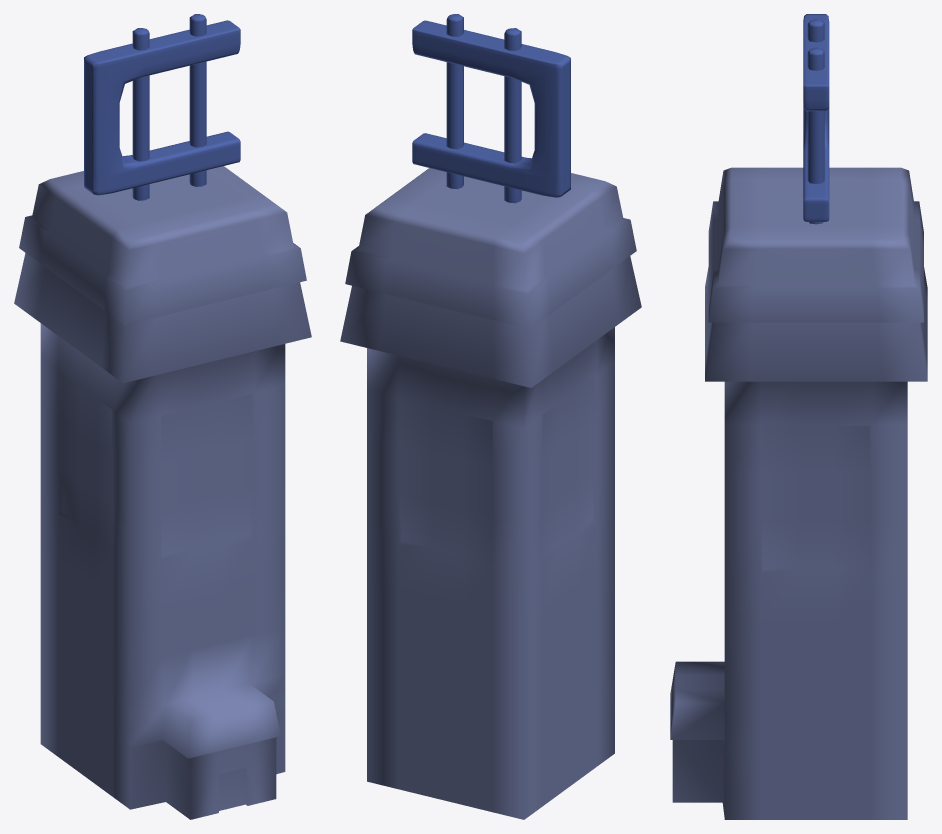
File: SM_Building_Business_A.fbx
3 views of the same model, side by side, from view 1: azimuth 30°, elevation 25°; view 2: azimuth 150°, elevation 25°; view 3: azimuth 270°, elevation 25° (orthographic). The views are drawn at different scales.
Parts seen in each view (by area): view 1: CentTop2; view 2: CentTop2; view 3: CentTop2.
Boxes of the visible parts, x1,y1,x2,y2 form: CentTop2: (14, 14, 311, 819); CentTop2: (340, 14, 641, 819); CentTop2: (670, 14, 927, 819).
Bounding box in the file's own units: 227 × 843 × 262.
